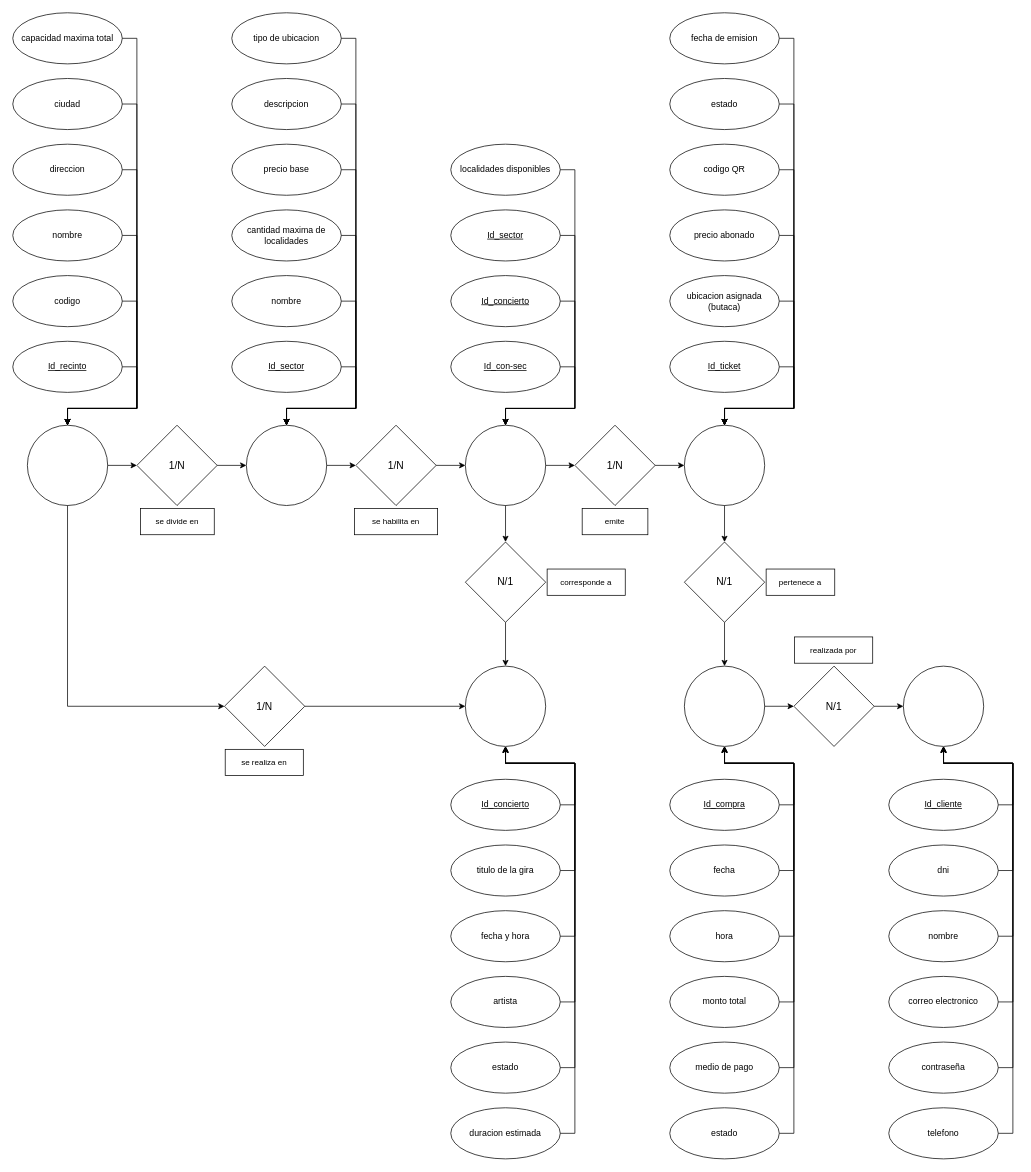
Some shapes in this 1031 by 1172 pixel diagram are drawn without their labels. The box of each missing label's shape, as (x1, y1, x2, y2) in pixels:
CLIENTE: (903, 665, 984, 746)
COMPRA: (684, 665, 765, 746)
CON-SEC: (465, 424, 546, 506)
CONCIERTO: (465, 665, 546, 746)
RECINTO: (27, 424, 108, 506)
SECTOR: (246, 424, 327, 506)
TICKET: (684, 424, 765, 506)
